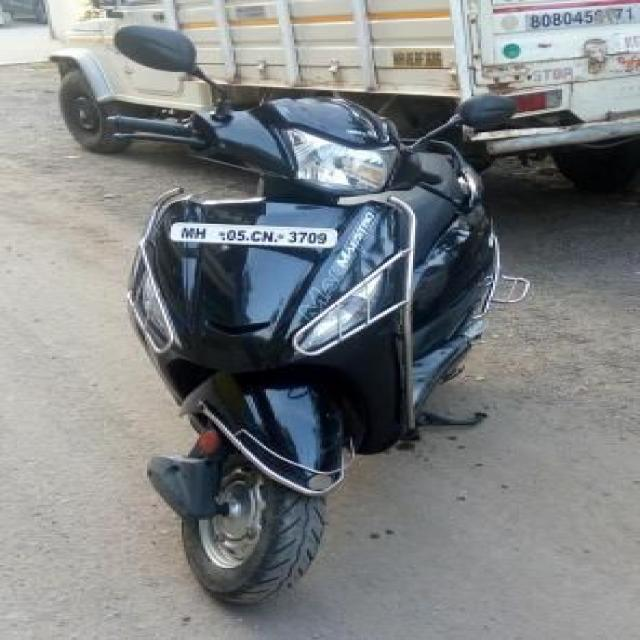number plate: (166, 220, 340, 250)
